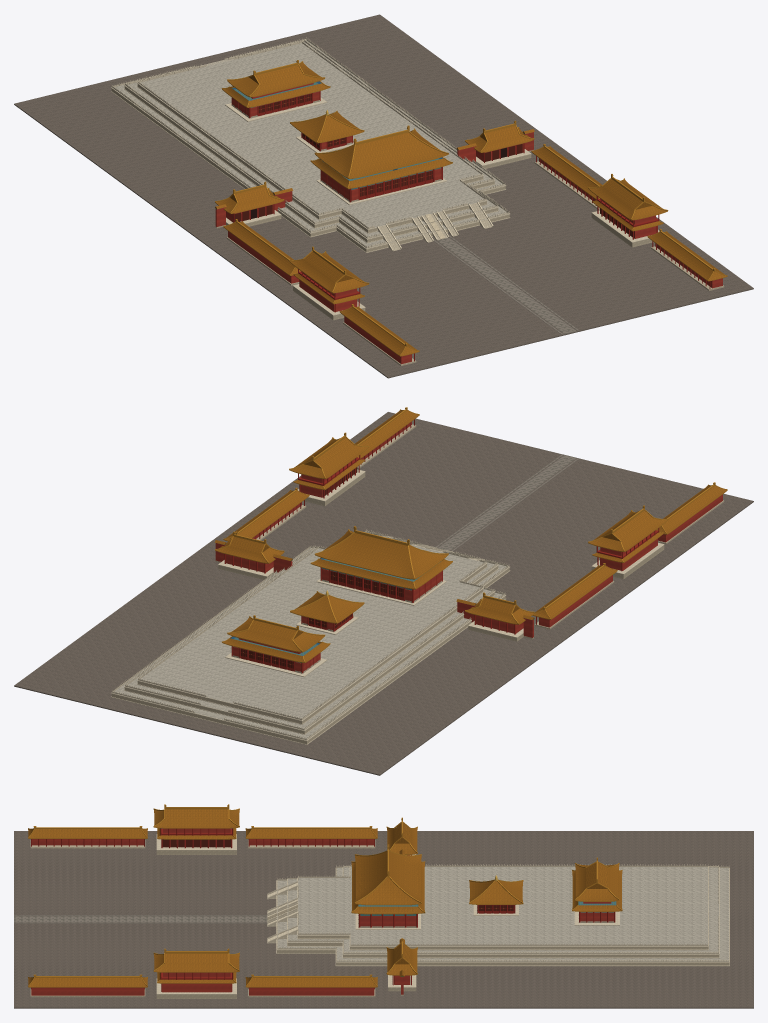
File: forbidden-city.glb
3 views of the same model, one above another, from view 1: azimuth 30°, elevation 25°; view 2: azimuth 150°, elevation 25°; view 3: azimuth 270°, elevation 25° (orthographic).
Visible parts, largest first — view 1: ForbiddenCity; view 2: ForbiddenCity; view 3: ForbiddenCity.
Part boxes in pixels (x1,y1,x2,y2): ForbiddenCity: (14, 14, 753, 378); ForbiddenCity: (14, 407, 753, 775); ForbiddenCity: (14, 804, 753, 1008).
Bounding box in the file's own units: 240 × 39.43 × 425.
Materials: 15 (9 with a texture image).
